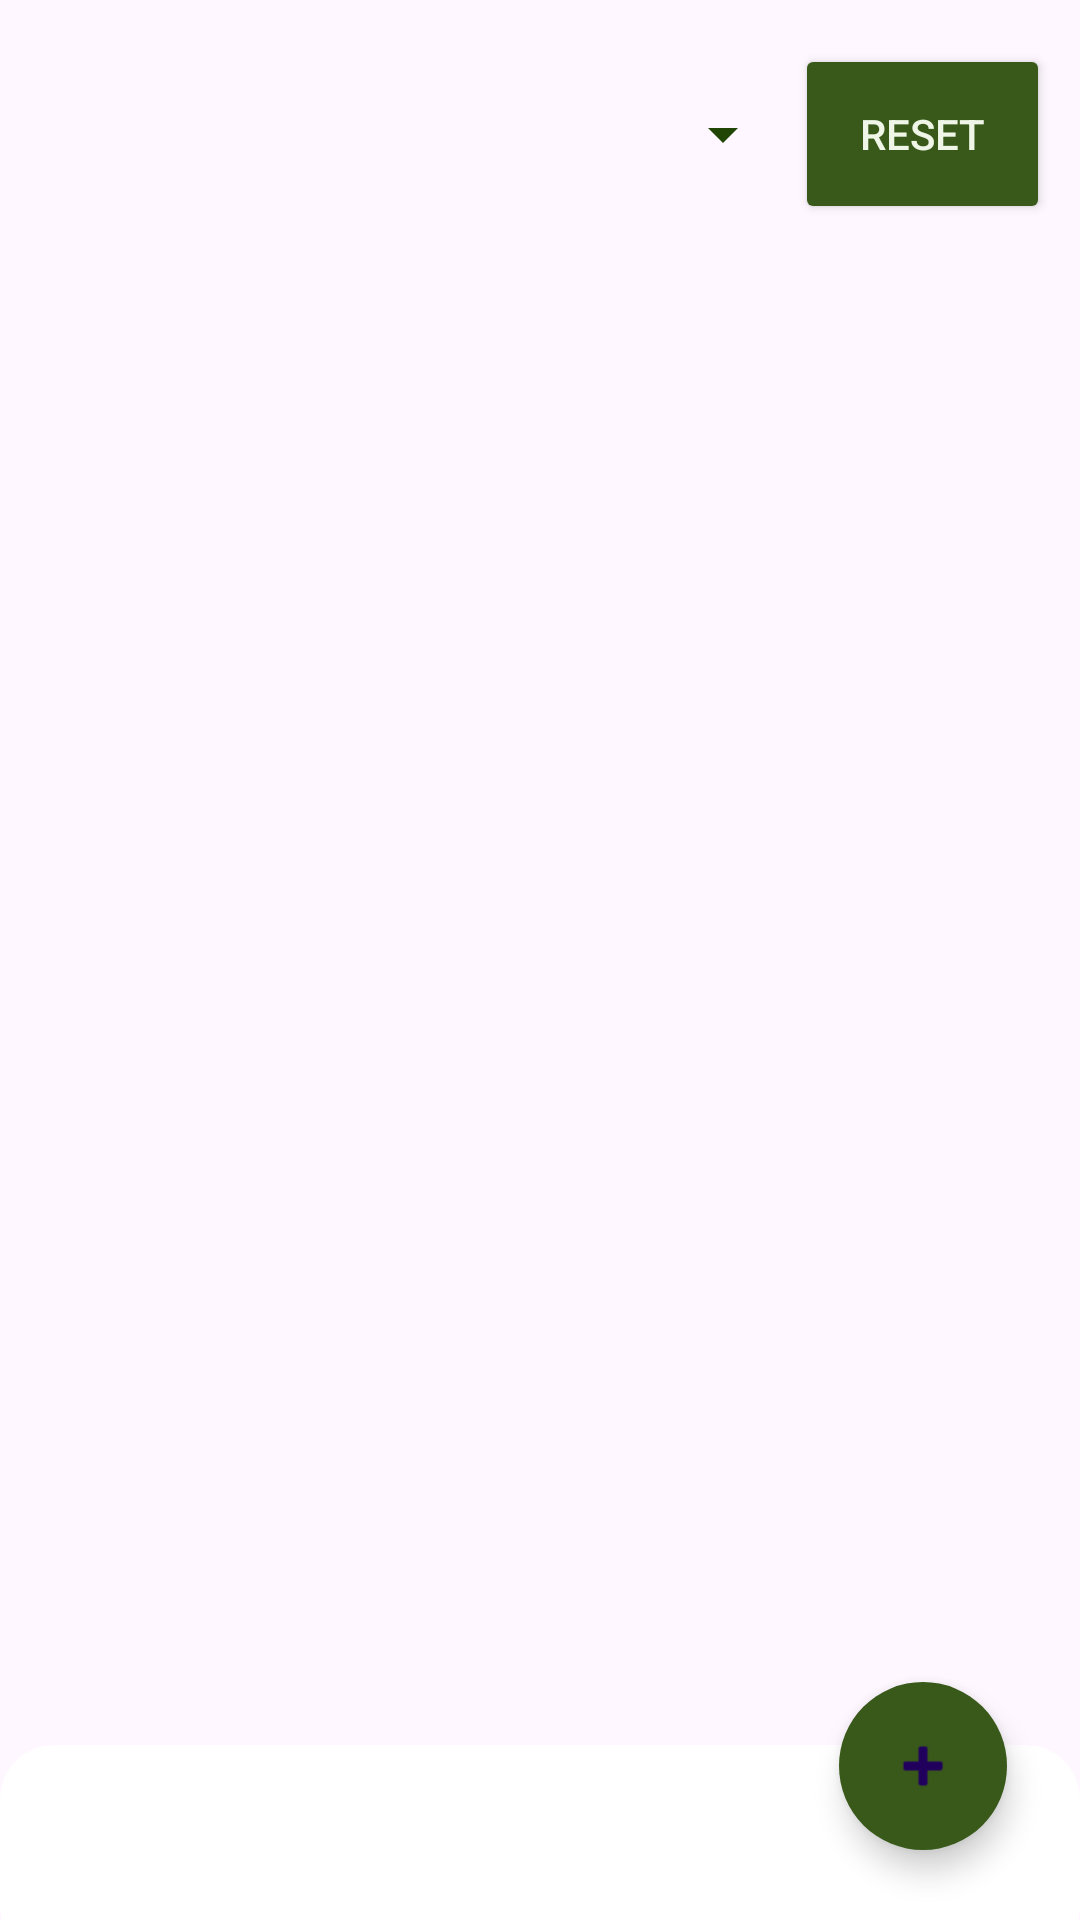

Screen size 1080*1920. Icon name, then its center in pixels as [x,y]:
add: [923,1766]
